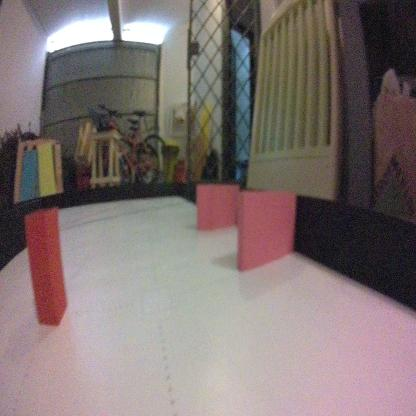magenta: (237, 190, 295, 274), (195, 181, 238, 234)
red: (24, 204, 71, 328)
